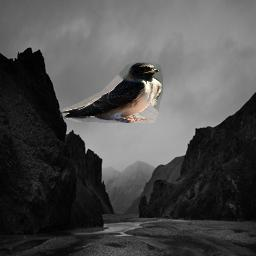Swallow: (59, 62, 163, 123)
